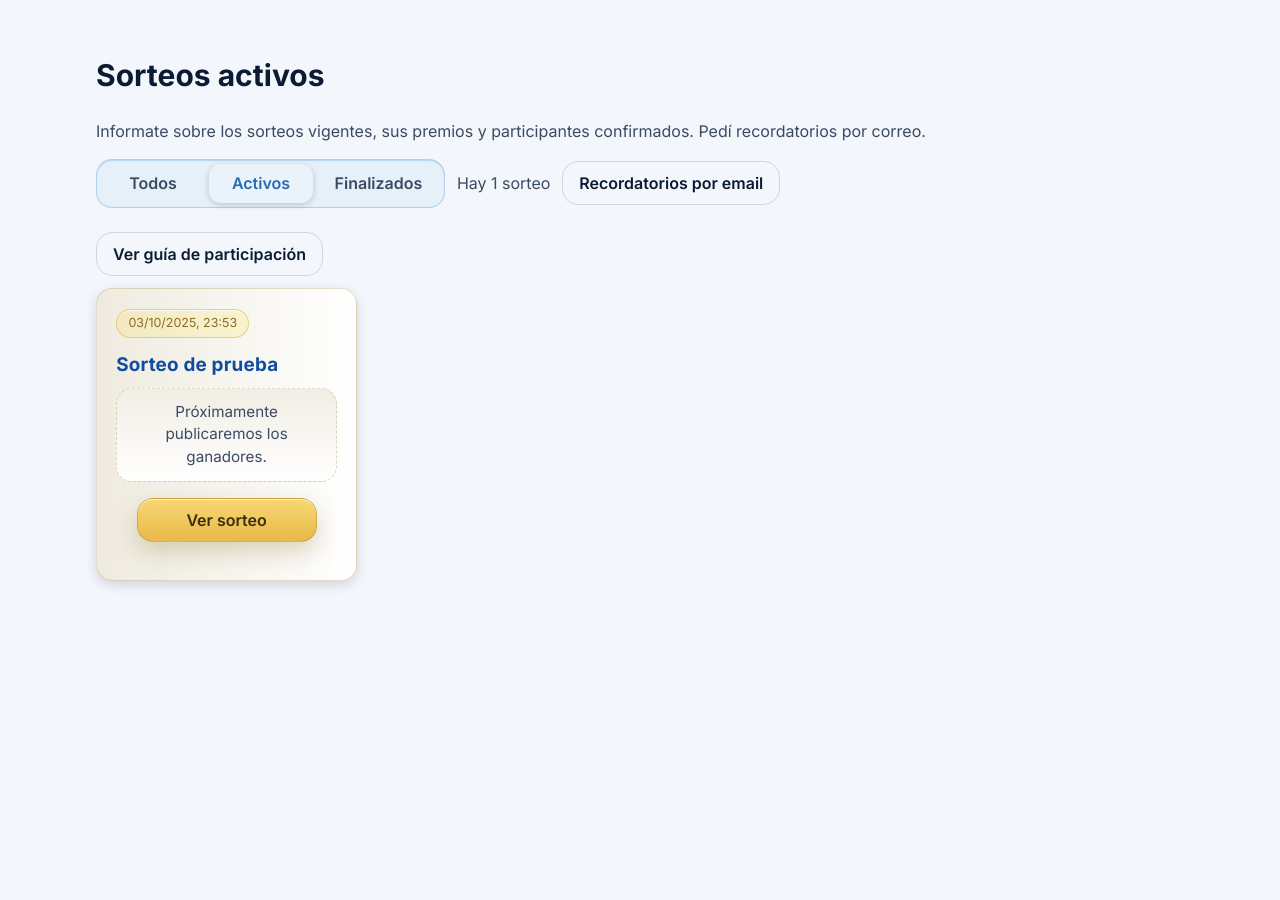
it: registra correo sanitizado y cierra modal en éxito
Click the button "Recordatorios por email": {"x": 671, "y": 184} [562,162,780,206]
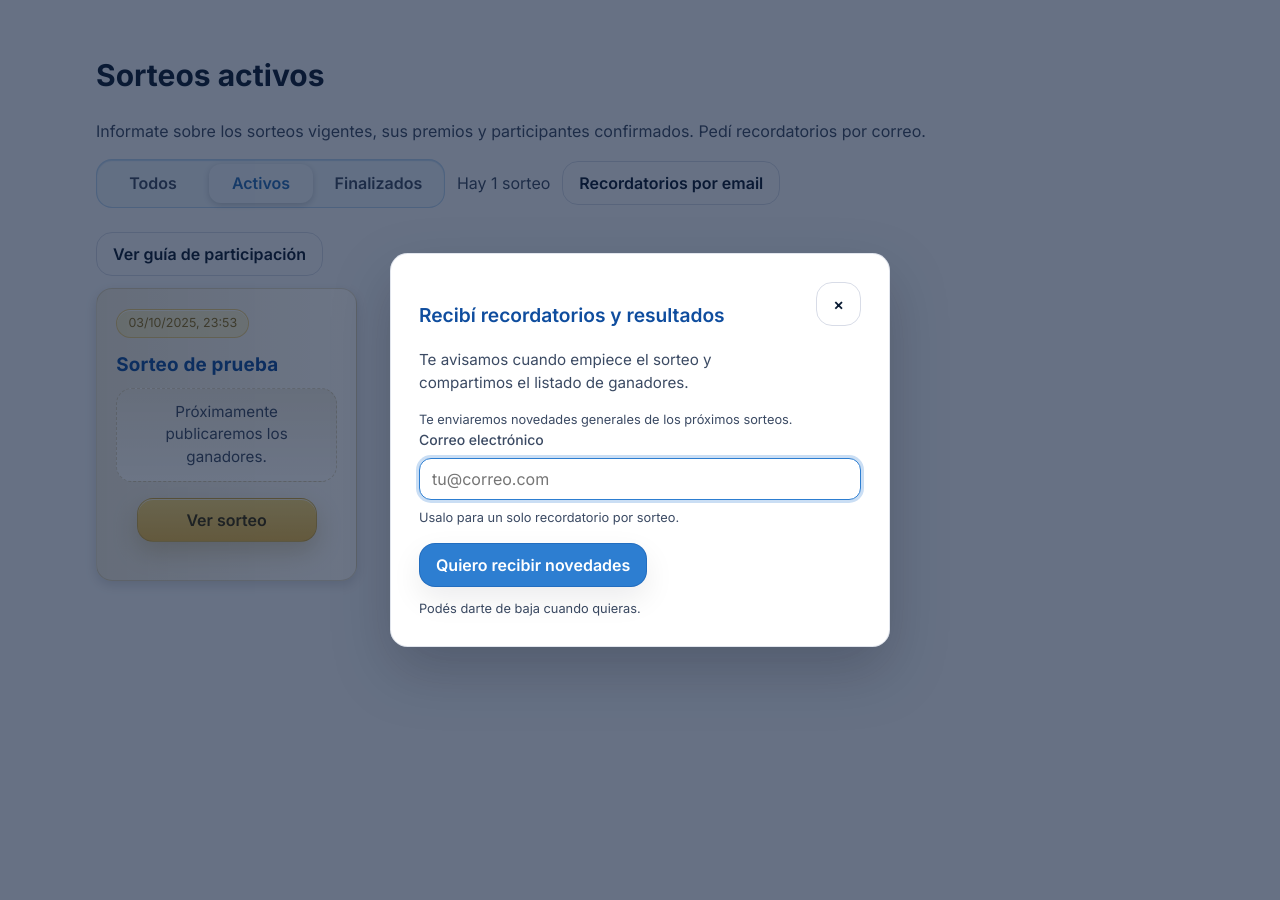
In the field labelled "Correo electrónico": {"x": 640, "y": 479} [419,458,861,500], type " Usuario@Test.COM  "
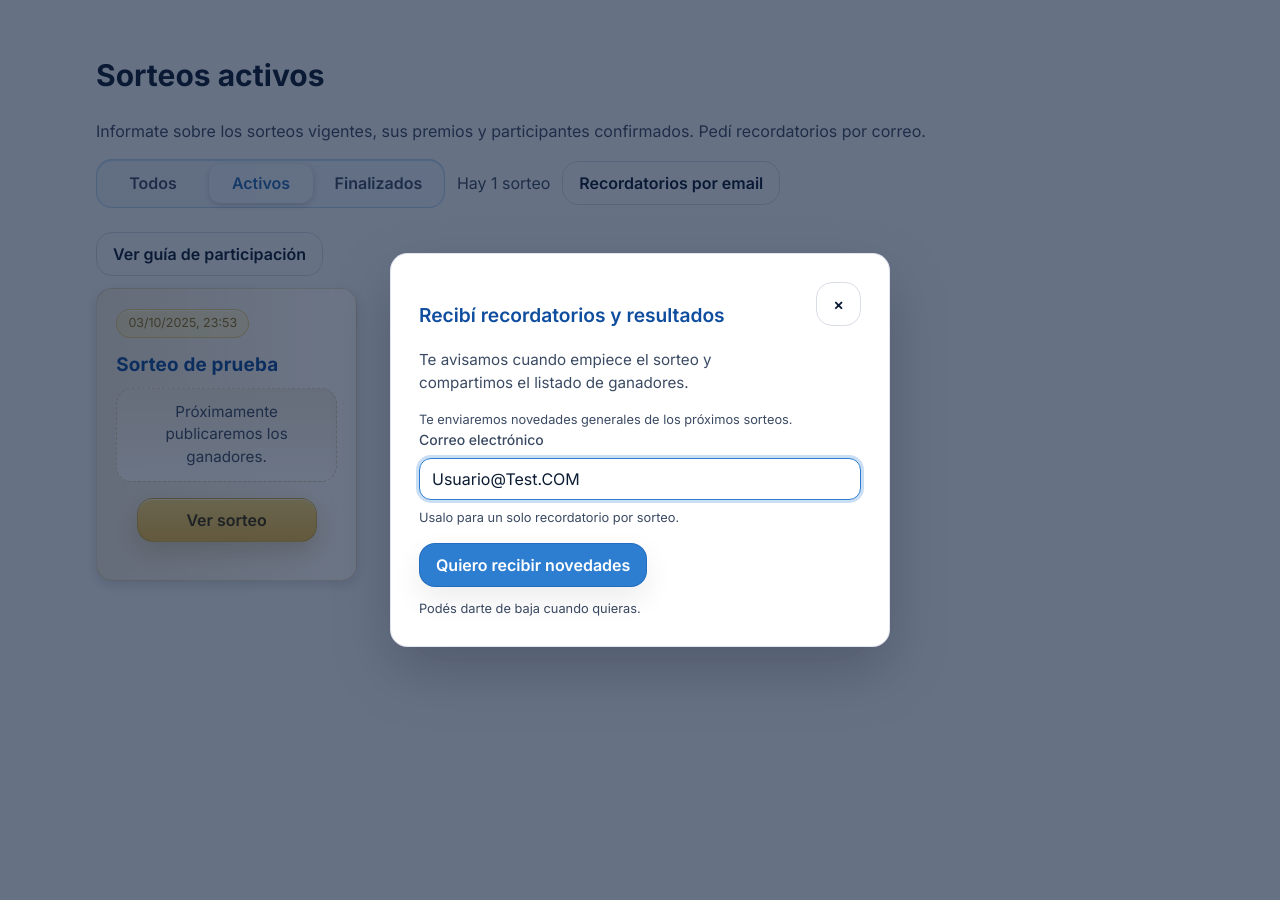
Click the button "Quiero recibir novedades": {"x": 533, "y": 565} [419,543,647,587]
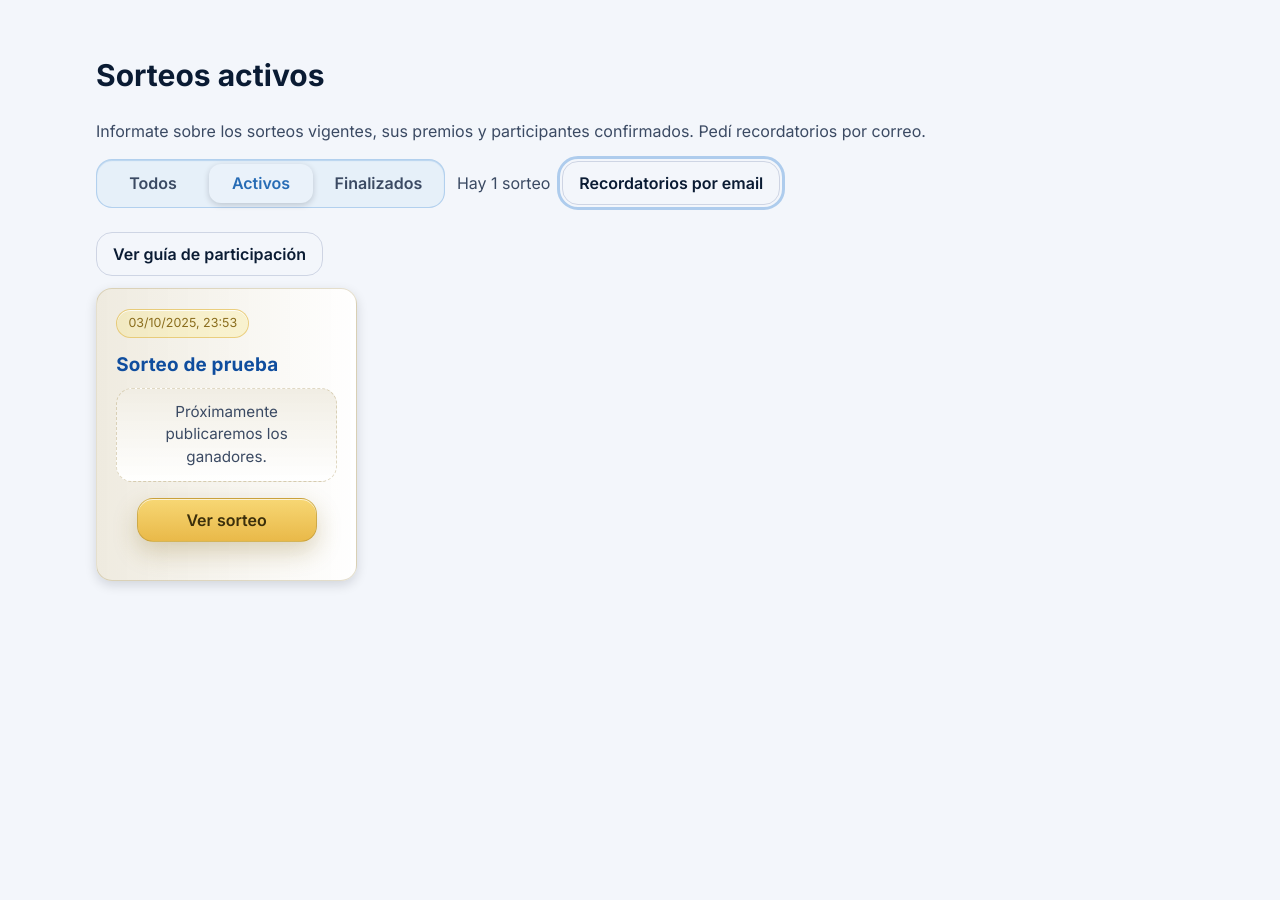
Now the dialog is gone
